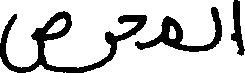X: (0, 6, 71, 72), (73, 26, 114, 72), (120, 10, 145, 54), (163, 11, 181, 54), (233, 0, 244, 60), (210, 2, 220, 53)
